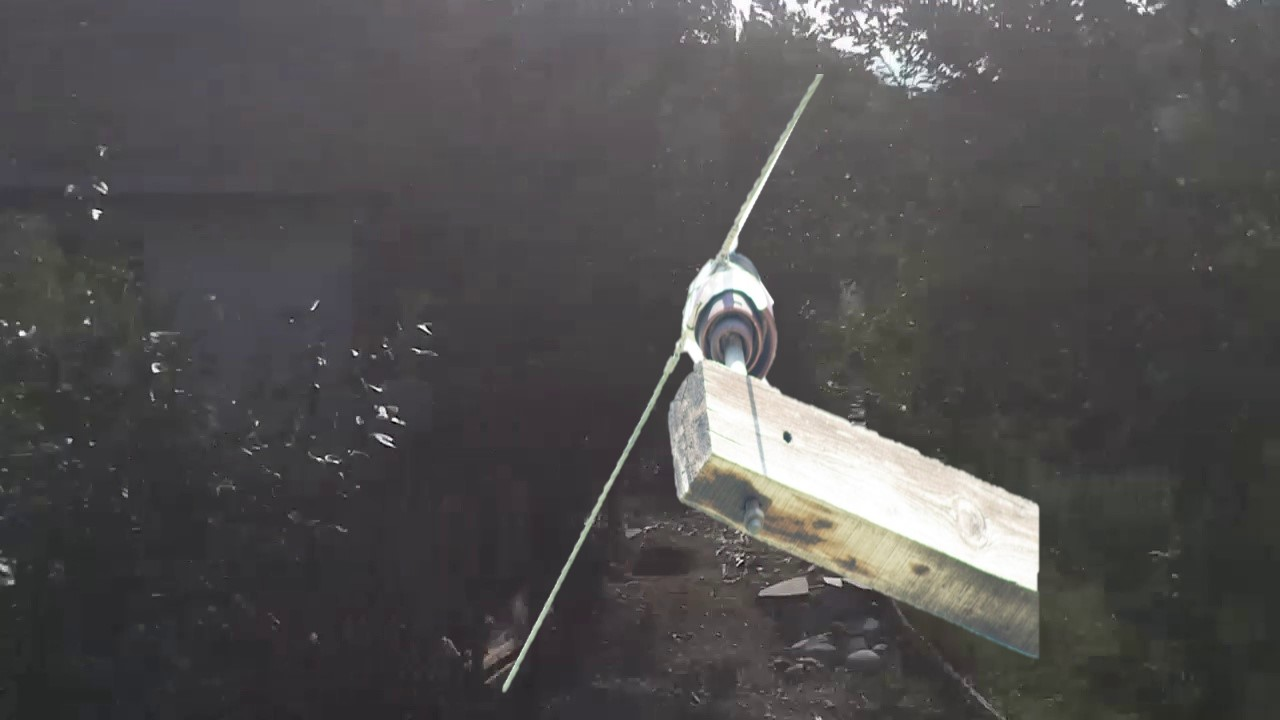defect_pin: (673, 247, 785, 383)
